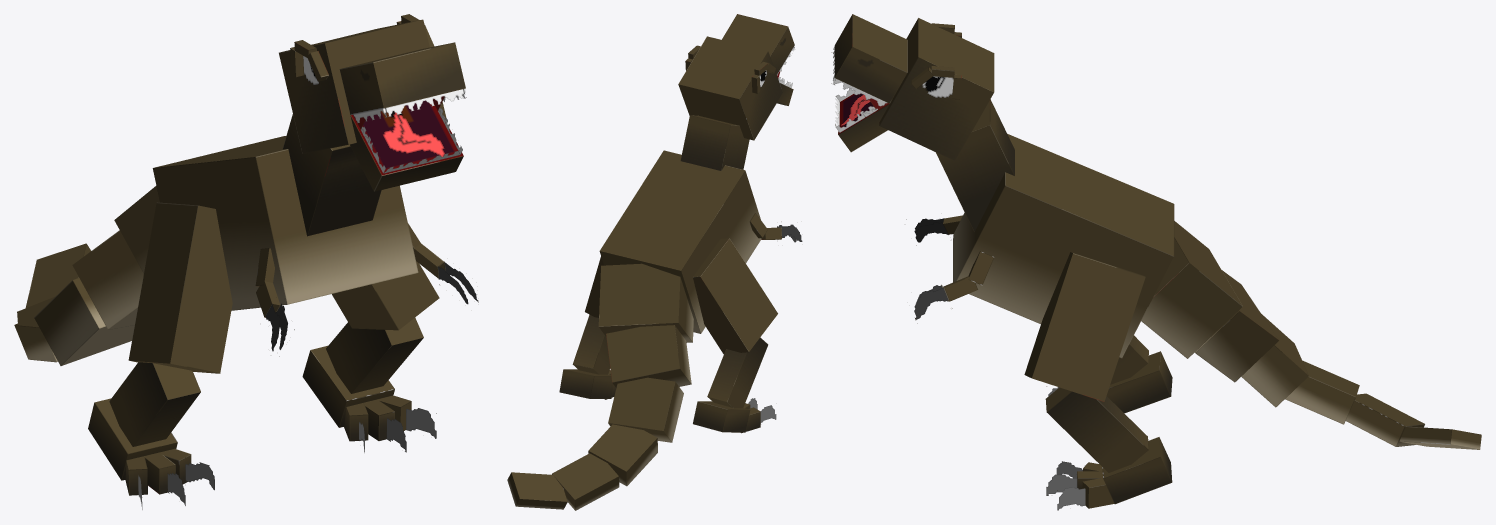
Rendered from animateddinosaur37.obj.
The picture shows the model from 3 angles, left to right: view 1: azimuth 30°, elevation 25°; view 2: azimuth 150°, elevation 25°; view 3: azimuth 270°, elevation 25°; orthographic projection. The views are drawn at different scales.
Parts seen in each view (by area): view 1: Object_6, Object_9, Object_64, Object_79, Object_53, Object_56, Object_12, Object_34, Object_98, Object_95, Object_31, Object_37 (+14 smaller); view 2: Object_6, Object_64, Object_9, Object_92, Object_95, Object_98, Object_53, Object_101, Object_12, Object_104, Object_56, Object_107 (+4 smaller); view 3: Object_6, Object_31, Object_64, Object_92, Object_34, Object_53, Object_56, Object_95, Object_98, Object_101, Object_37, Object_15 (+4 smaller).
Boxes of the visible parts, x1=… form: Object_6: x1=152, y1=136, x2=418, y2=310; Object_9: x1=128, y1=202, x2=232, y2=373; Object_64: x1=279, y1=19, x2=446, y2=153; Object_79: x1=350, y1=100, x2=463, y2=191; Object_53: x1=282, y1=114, x2=381, y2=236; Object_56: x1=339, y1=42, x2=465, y2=114; Object_12: x1=109, y1=362, x2=200, y2=446; Object_34: x1=326, y1=317, x2=423, y2=393; Object_98: x1=34, y1=278, x2=134, y2=365; Object_95: x1=72, y1=230, x2=143, y2=329; Object_31: x1=332, y1=261, x2=439, y2=330; Object_37: x1=302, y1=345, x2=394, y2=427; Object_6: x1=599, y1=150, x2=761, y2=333; Object_64: x1=678, y1=36, x2=782, y2=140; Object_9: x1=693, y1=238, x2=777, y2=354; Object_92: x1=598, y1=263, x2=693, y2=342; Object_95: x1=606, y1=325, x2=691, y2=387; Object_98: x1=608, y1=377, x2=683, y2=442; Object_53: x1=680, y1=115, x2=749, y2=170; Object_101: x1=588, y1=424, x2=657, y2=486; Object_12: x1=707, y1=337, x2=768, y2=408; Object_104: x1=552, y1=453, x2=619, y2=510; Object_56: x1=722, y1=14, x2=794, y2=74; Object_107: x1=507, y1=472, x2=567, y2=509; Object_6: x1=953, y1=134, x2=1174, y2=358; Object_31: x1=1024, y1=252, x2=1145, y2=401; Object_64: x1=879, y1=18, x2=994, y2=160; Object_92: x1=1141, y1=221, x2=1242, y2=358; Object_34: x1=1045, y1=387, x2=1148, y2=472; Object_53: x1=936, y1=99, x2=1014, y2=231; Object_56: x1=834, y1=14, x2=907, y2=103; Object_95: x1=1195, y1=270, x2=1278, y2=382; Object_98: x1=1241, y1=314, x2=1308, y2=407; Object_101: x1=1285, y1=360, x2=1359, y2=424; Object_37: x1=1102, y1=437, x2=1172, y2=504; Object_15: x1=1106, y1=351, x2=1172, y2=413.
Bounding box in the file's own units: 2.25 × 3.84 × 5.24.
